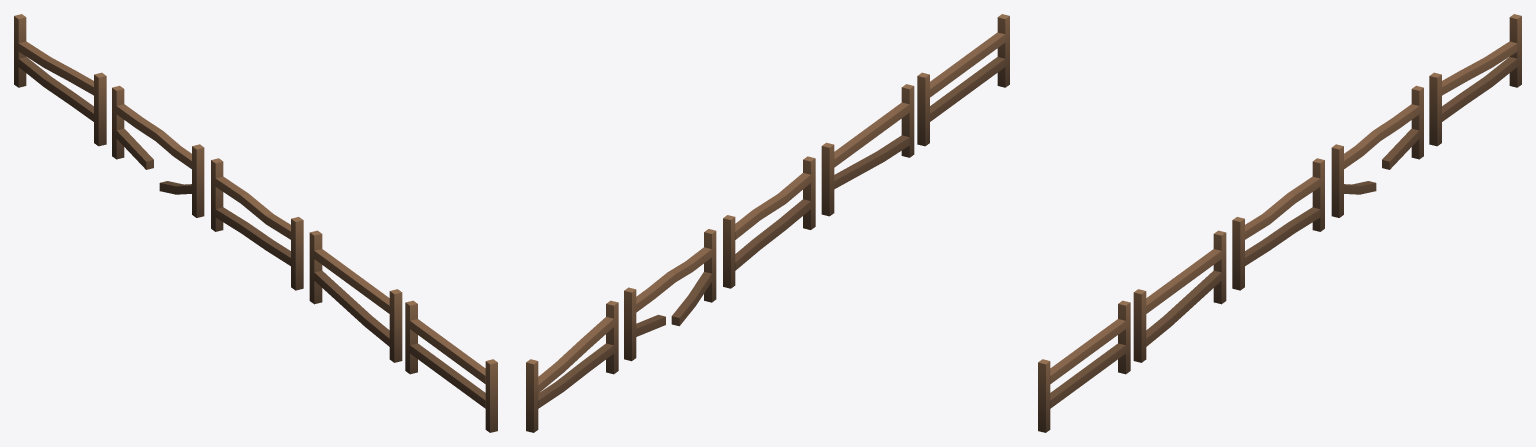
Rendered from Cercas para a pista.fbx.
3 renders of one model, left to right at view 1: azimuth 30°, elevation 25°; view 2: azimuth 150°, elevation 25°; view 3: azimuth 330°, elevation 25°, orthographic.
Visible parts, largest first — view 1: cerca 2, cerca 1, cerca 3, cerca 5, cerca 4; view 2: cerca 5, cerca 3, cerca 2, cerca 1, cerca 4; view 3: cerca 2, cerca 1, cerca 3, cerca 5, cerca 4.
Part boxes in pixels (left/top/right/bottom): cerca 2: left=309, top=230, right=402, bottom=362; cerca 1: left=405, top=300, right=497, bottom=432; cerca 3: left=211, top=158, right=303, bottom=290; cerca 5: left=14, top=14, right=106, bottom=146; cerca 4: left=112, top=85, right=204, bottom=217; cerca 5: left=526, top=300, right=618, bottom=432; cerca 3: left=723, top=156, right=815, bottom=288; cerca 2: left=821, top=84, right=914, bottom=216; cerca 1: left=917, top=14, right=1009, bottom=146; cerca 4: left=624, top=229, right=716, bottom=361; cerca 2: left=1133, top=230, right=1226, bottom=362; cerca 1: left=1038, top=300, right=1130, bottom=432; cerca 3: left=1232, top=158, right=1324, bottom=290; cerca 5: left=1429, top=14, right=1521, bottom=146; cerca 4: left=1331, top=85, right=1423, bottom=217.
Size of the model in its own units: 35.08 by 291 by 3662.
Materials: 1 (1 with a texture image).
